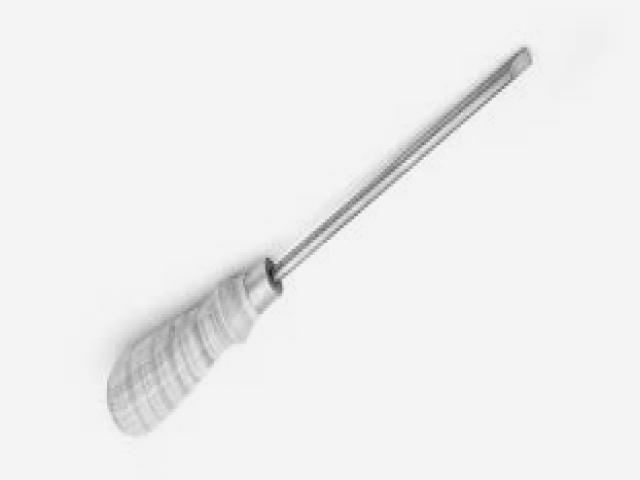Screwdriver: (108, 51, 532, 433)
